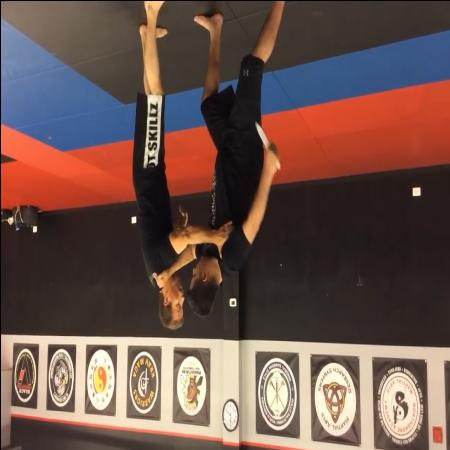long weapon: (252, 118, 282, 172)
